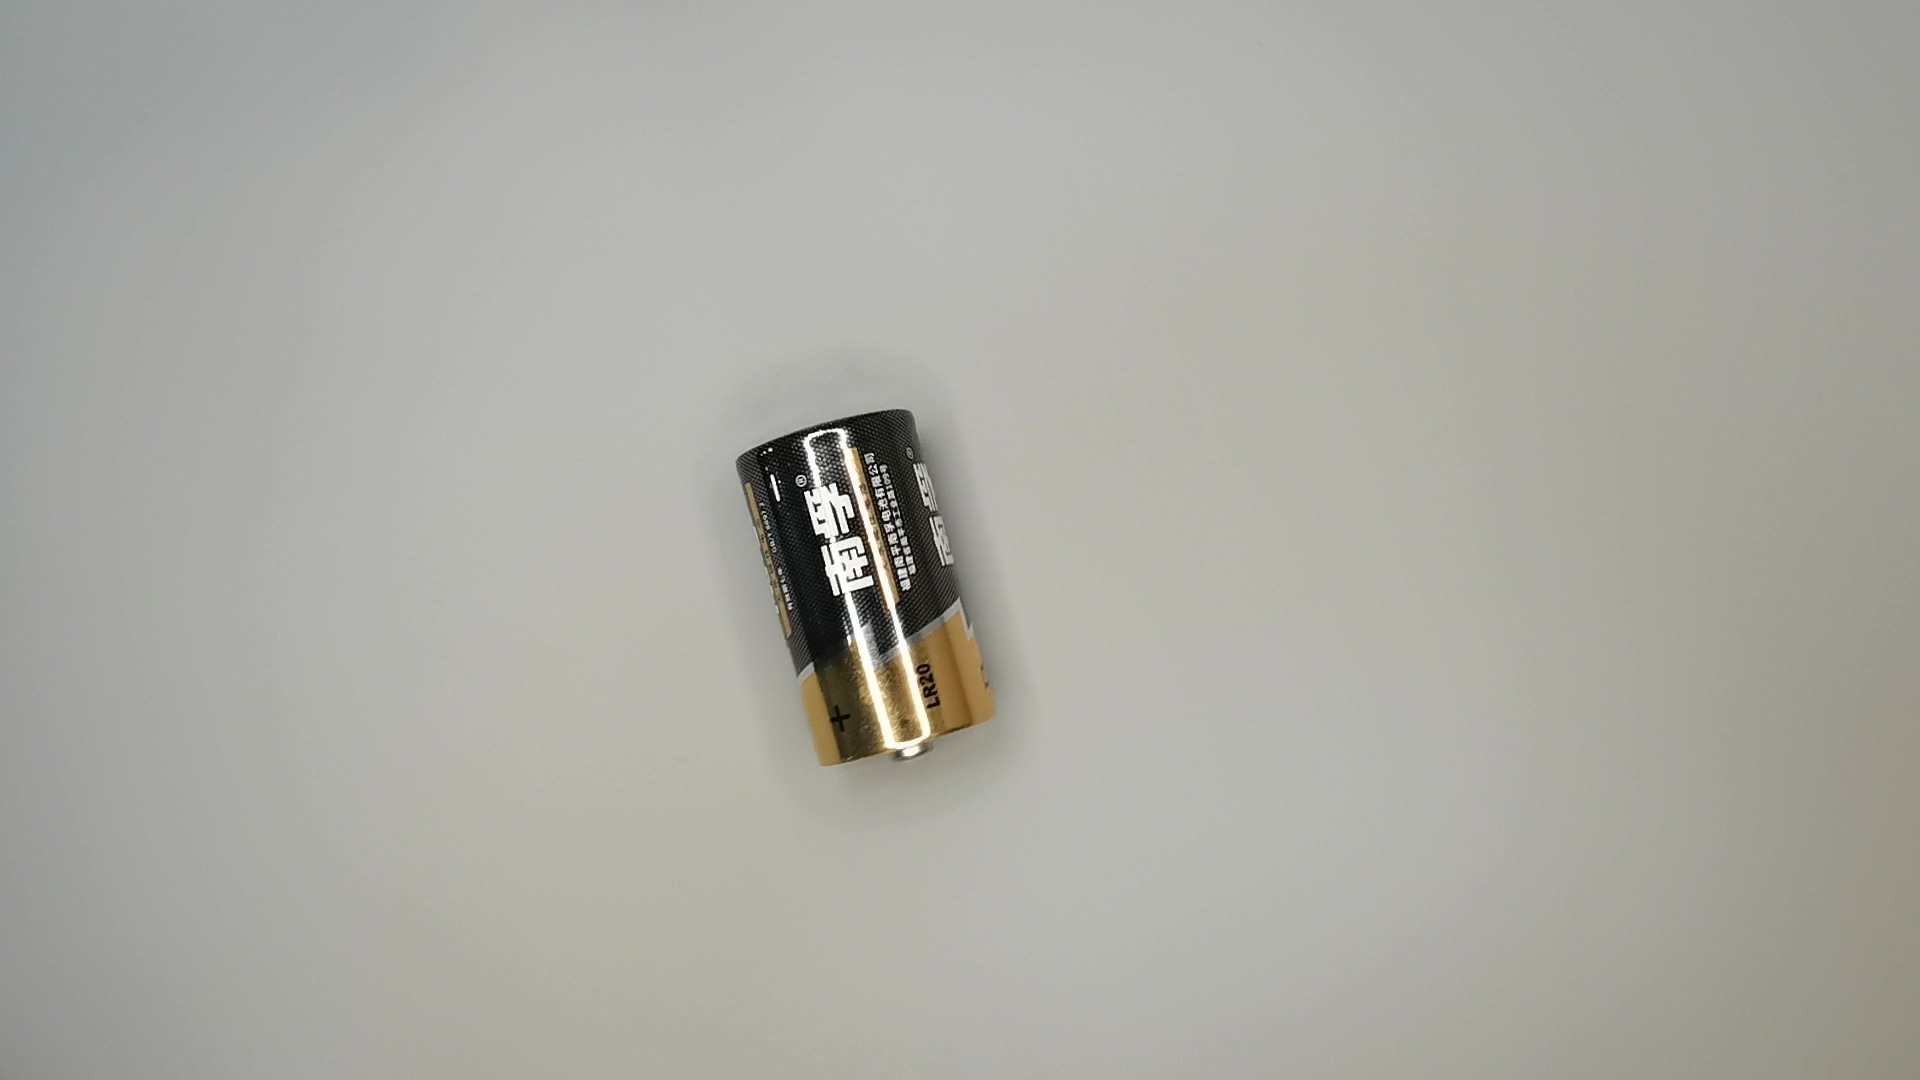battery: (733, 402, 1007, 781)
